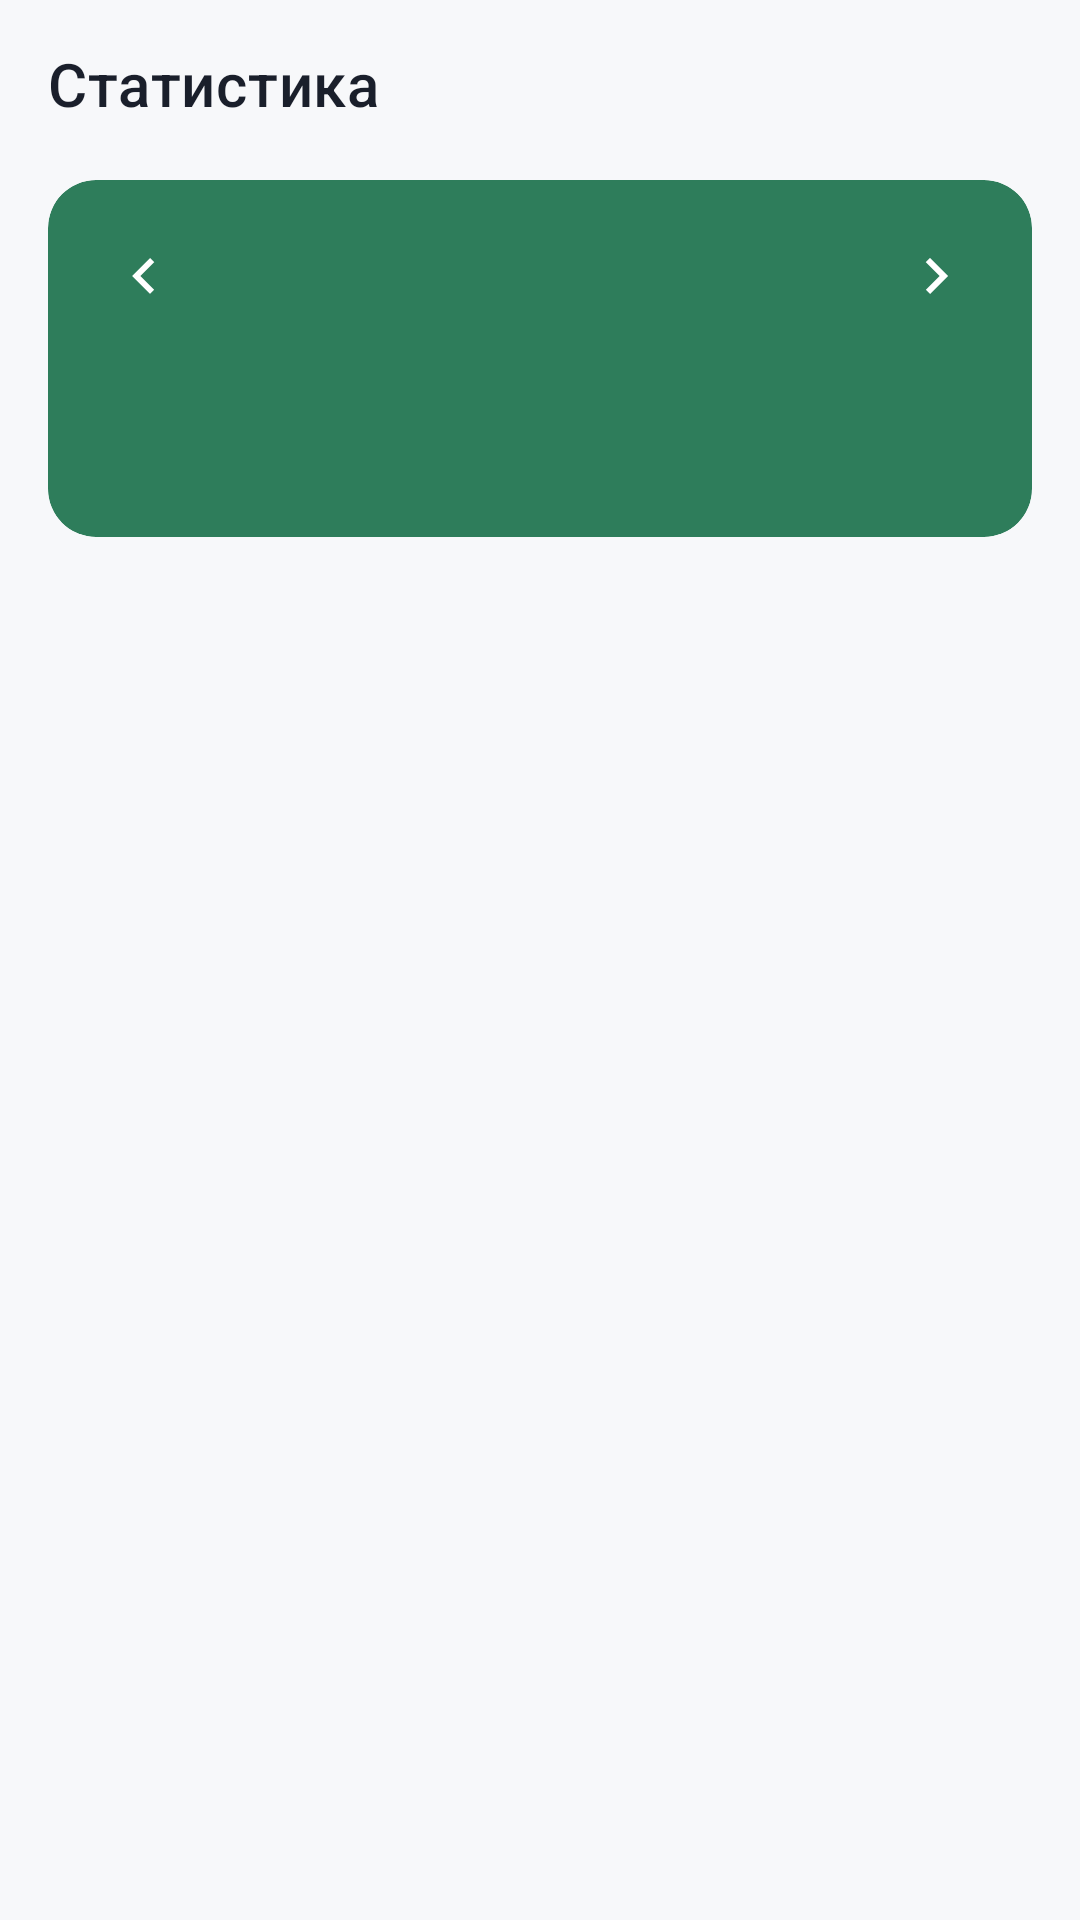

Point at icon controls on the screen. Image size 1080px x 1920px, points as (x,y).
Предыдущий месяц: (143,276)
Следующий месяц: (937,276)
